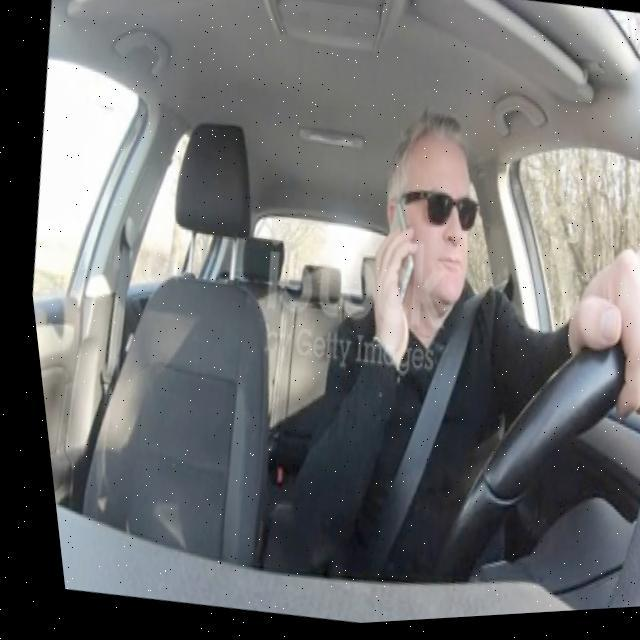PhoneCall: (362, 197, 423, 314)
